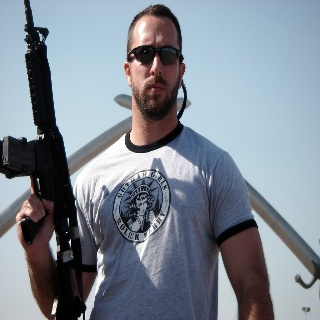rifle: (1, 1, 94, 320)
